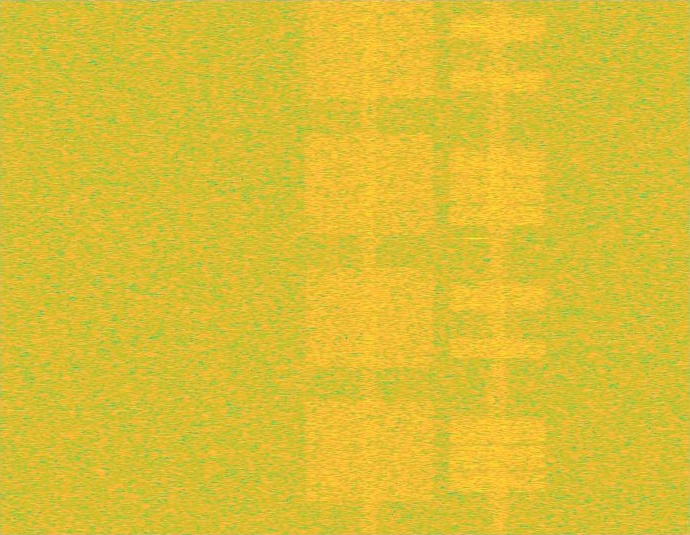5G: (301, 0, 439, 534)
DSSS: (486, 0, 509, 534), (360, 0, 379, 534)
LTE: (446, 0, 549, 534)
Radar: (469, 0, 483, 534)
